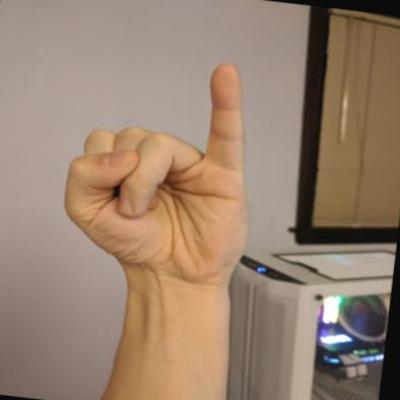hand: (51, 38, 278, 297)
